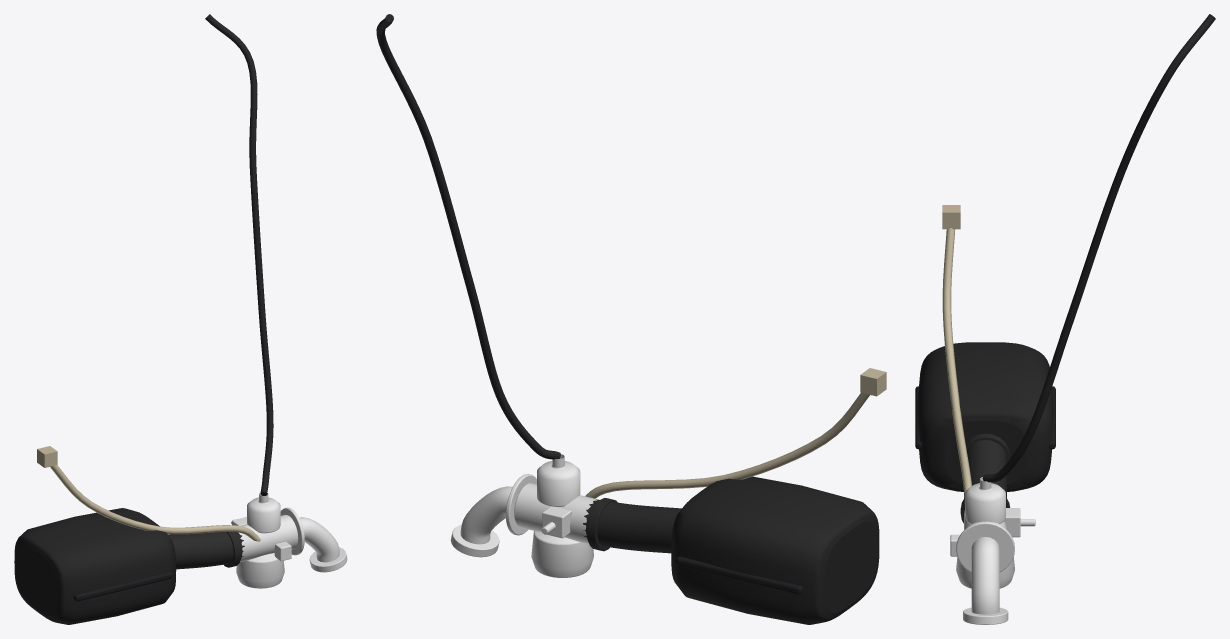
File: bike_step_through__carb.glb
3 views of the same model, side by side, from view 1: azimuth 30°, elevation 25°; view 2: azimuth 150°, elevation 25°; view 3: azimuth 270°, elevation 25° (orthographic). The views are drawn at different scales.
Parts seen in each view (by area): view 1: powertrain__intake__air_cleaner, powertrain__intake__carburettor, powertrain__intake__throttle_cable, powertrain__intake__air_hose, powertrain__fuel_system__tap_and_line, powertrain__intake__manifold; view 2: powertrain__intake__air_cleaner, powertrain__intake__carburettor, powertrain__intake__throttle_cable, powertrain__intake__air_hose, powertrain__fuel_system__tap_and_line, powertrain__intake__manifold; view 3: powertrain__intake__air_cleaner, powertrain__intake__throttle_cable, powertrain__intake__carburettor, powertrain__fuel_system__tap_and_line, powertrain__intake__manifold, powertrain__intake__air_hose.
Part boxes in pixels (bbox=[...]): powertrain__intake__air_cleaner: bbox=[14, 508, 176, 624]; powertrain__intake__carburettor: bbox=[231, 493, 304, 588]; powertrain__intake__throttle_cable: bbox=[205, 14, 273, 495]; powertrain__intake__air_hose: bbox=[168, 532, 244, 569]; powertrain__fuel_system__tap_and_line: bbox=[37, 446, 260, 541]; powertrain__intake__manifold: bbox=[299, 517, 347, 572]; powertrain__intake__air_cleaner: bbox=[671, 476, 879, 624]; powertrain__intake__carburettor: bbox=[505, 454, 597, 577]; powertrain__intake__throttle_cable: bbox=[376, 14, 560, 459]; powertrain__intake__air_hose: bbox=[583, 498, 681, 553]; powertrain__fuel_system__tap_and_line: bbox=[585, 368, 886, 498]; powertrain__intake__manifold: bbox=[450, 486, 512, 557]; powertrain__intake__air_cleaner: bbox=[915, 342, 1055, 491]; powertrain__intake__throttle_cable: bbox=[982, 14, 1215, 482]; powertrain__intake__carburettor: bbox=[950, 477, 1035, 588]; powertrain__fuel_system__tap_and_line: bbox=[942, 205, 971, 503]; powertrain__intake__manifold: bbox=[963, 537, 1008, 624]; powertrain__intake__air_hose: bbox=[960, 433, 1010, 523].
Size of the model in its own units: 39.2 by 57.71 by 26.48.
